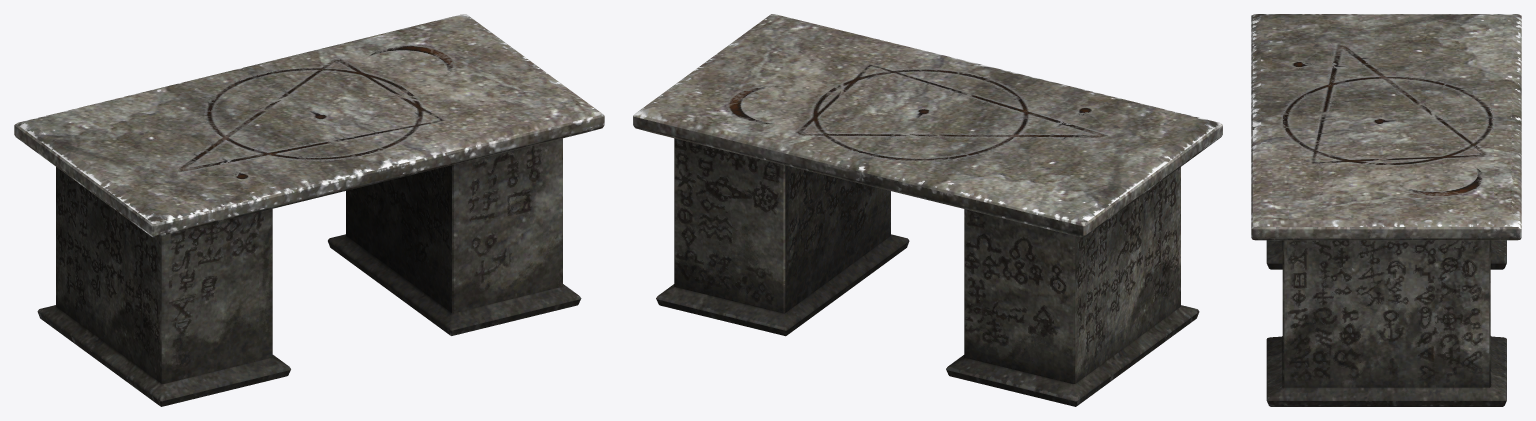
The model's file is stone_altar_large.dae.
The picture shows the model from 3 angles, left to right: view 1: azimuth 30°, elevation 25°; view 2: azimuth 150°, elevation 25°; view 3: azimuth 270°, elevation 25°; orthographic projection. The views are drawn at different scales.
Visible parts, largest first — view 1: polySurface1; view 2: polySurface1; view 3: polySurface1.
Part boxes in pixels (bbox=[...]): polySurface1: bbox=[14, 14, 604, 406]; polySurface1: bbox=[633, 14, 1222, 406]; polySurface1: bbox=[1251, 14, 1521, 406].
Bounding box in the file's own units: 1.8 × 0.7457 × 0.9575.
